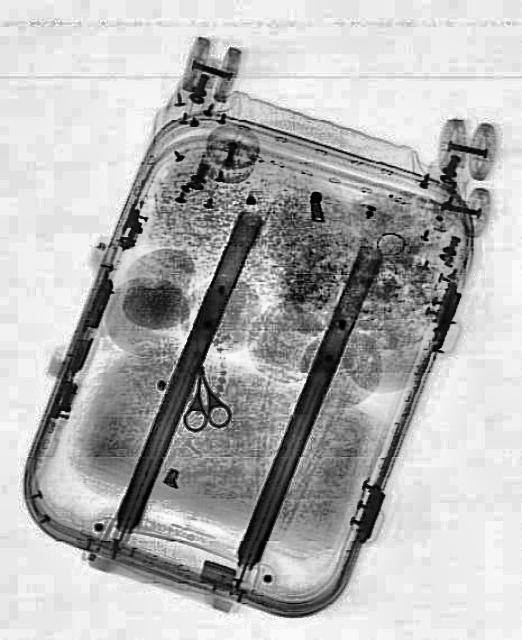Scissors: (176, 360, 230, 430)
